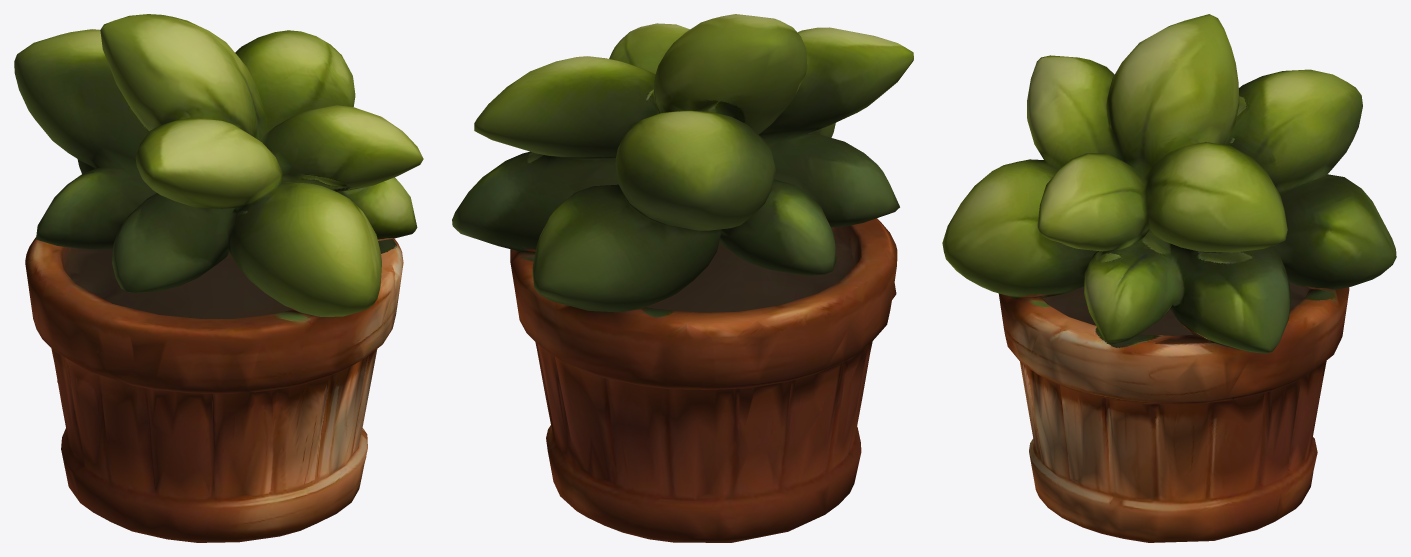
The model's file is pflanze_wald_a.glb.
The picture shows the model from 3 angles, left to right: view 1: azimuth 30°, elevation 25°; view 2: azimuth 150°, elevation 25°; view 3: azimuth 270°, elevation 25°; orthographic projection. The views are drawn at different scales.
Visible parts, largest first — view 1: tripo_node_11b5922f-7073-4388-9068-c54cd94796af; view 2: tripo_node_11b5922f-7073-4388-9068-c54cd94796af; view 3: tripo_node_11b5922f-7073-4388-9068-c54cd94796af.
Part boxes in pixels (bbox=[...]): tripo_node_11b5922f-7073-4388-9068-c54cd94796af: bbox=[14, 14, 423, 542]; tripo_node_11b5922f-7073-4388-9068-c54cd94796af: bbox=[452, 14, 913, 542]; tripo_node_11b5922f-7073-4388-9068-c54cd94796af: bbox=[942, 14, 1396, 542].
Size of the model in its own units: 0.2382 by 0.3 by 0.2821.
Materials: 1 (1 with a texture image).
